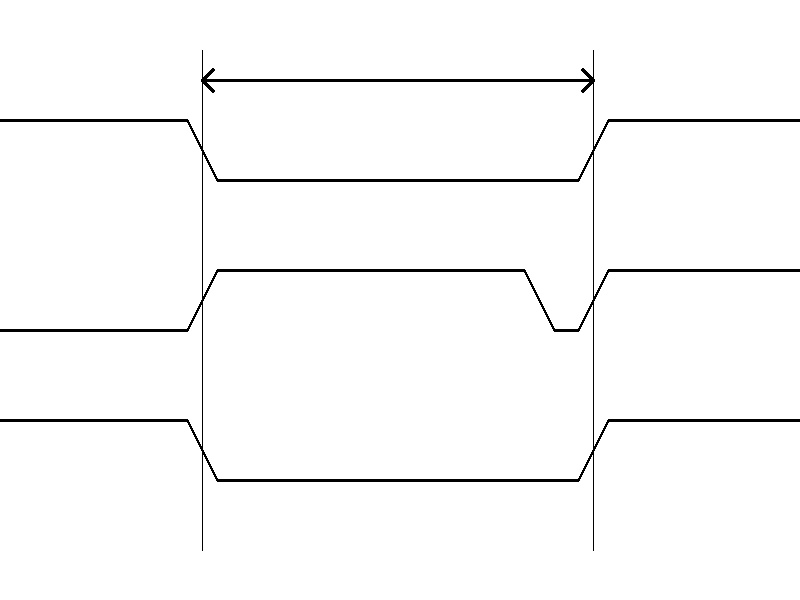double_arrow: (202, 65, 593, 95)
